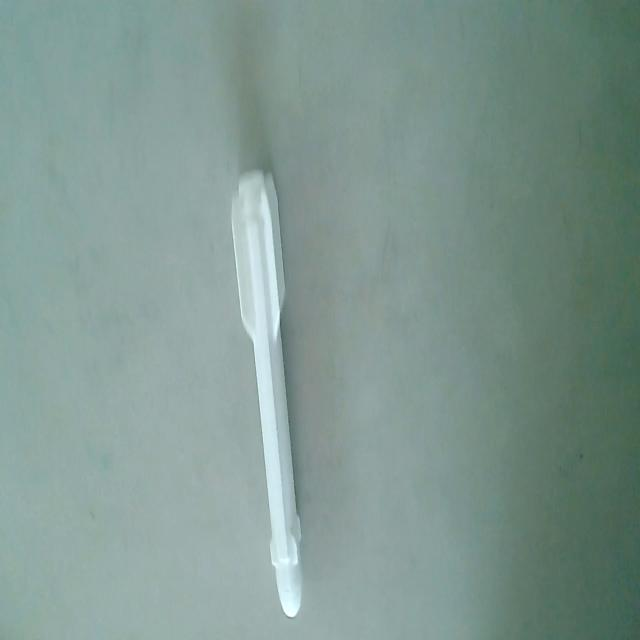Rocket: (230, 163, 308, 622)
